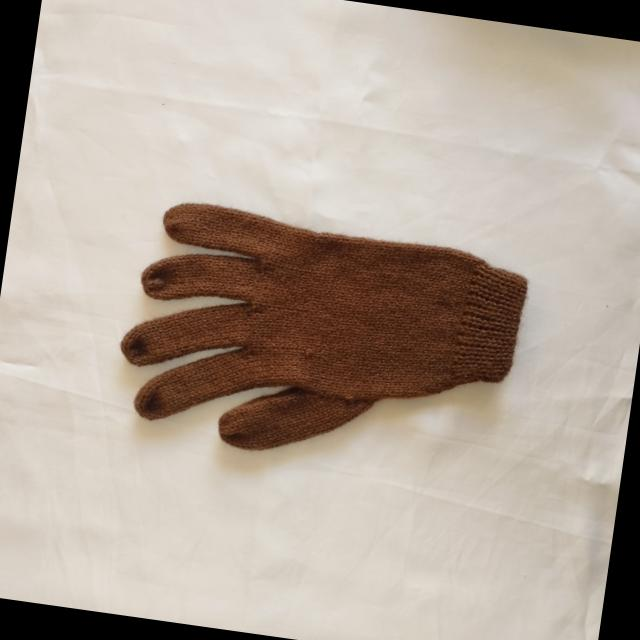Guante: (108, 194, 534, 488)
